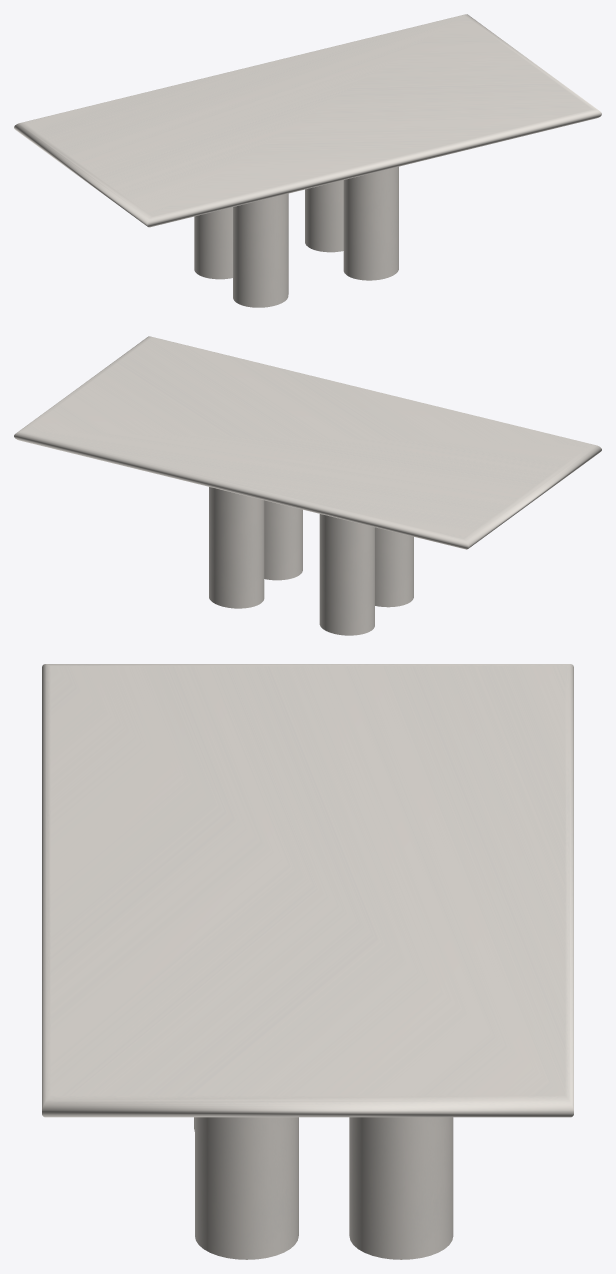
The model's file is pearlwhite_recta_round_grove.glb.
3 renders of one model, top to bottom at view 1: azimuth 30°, elevation 25°; view 2: azimuth 150°, elevation 25°; view 3: azimuth 270°, elevation 25°, orthographic. The views are drawn at different scales.
Parts seen in each view (by area): view 1: round_recta, grove; view 2: round_recta, grove; view 3: round_recta, grove.
Part boxes in pixels (x1,y1,x2,y2): round_recta: [14, 14, 601, 227]; grove: [194, 166, 398, 307]; round_recta: [14, 336, 601, 549]; grove: [209, 487, 413, 635]; round_recta: [42, 664, 573, 1117]; grove: [194, 1117, 453, 1259].
Bounding box in the file's own units: 7.76 × 2.51 × 3.93.
1 material, 1 textured.
